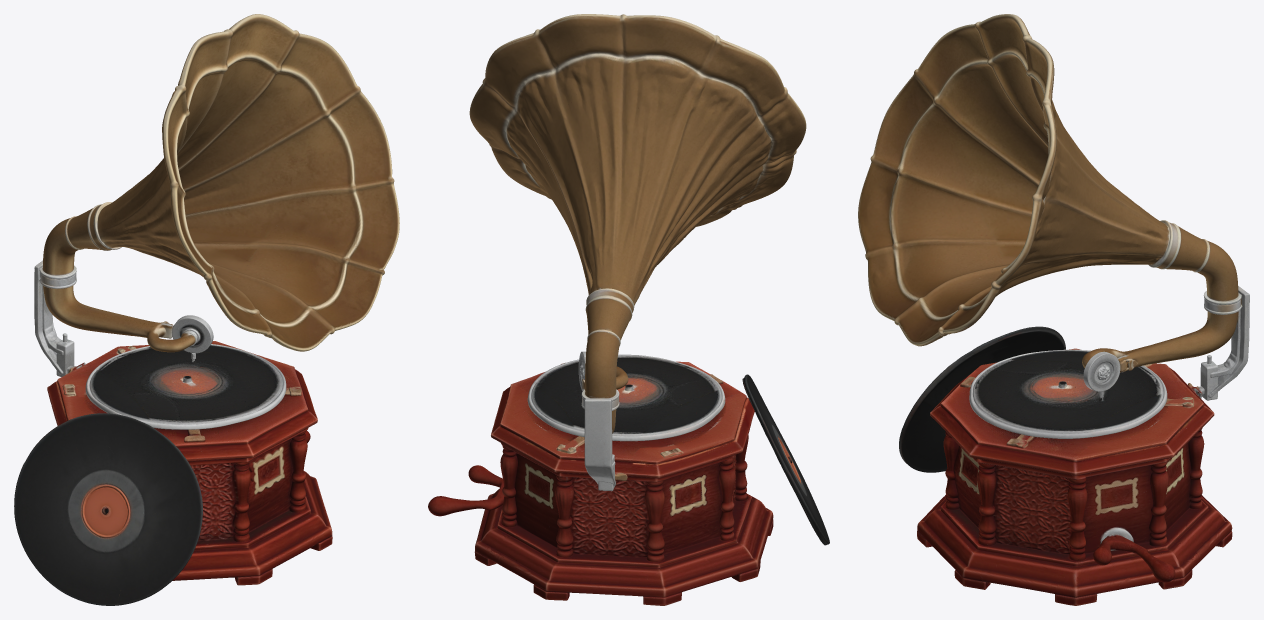
Rendered from phonograph.glb.
3 renders of one model, left to right at view 1: azimuth 30°, elevation 25°; view 2: azimuth 150°, elevation 25°; view 3: azimuth 270°, elevation 25°, orthographic.
Bounding box in the file's own units: 1.39 × 1.9 × 1.3.
1 material, 1 textured.
